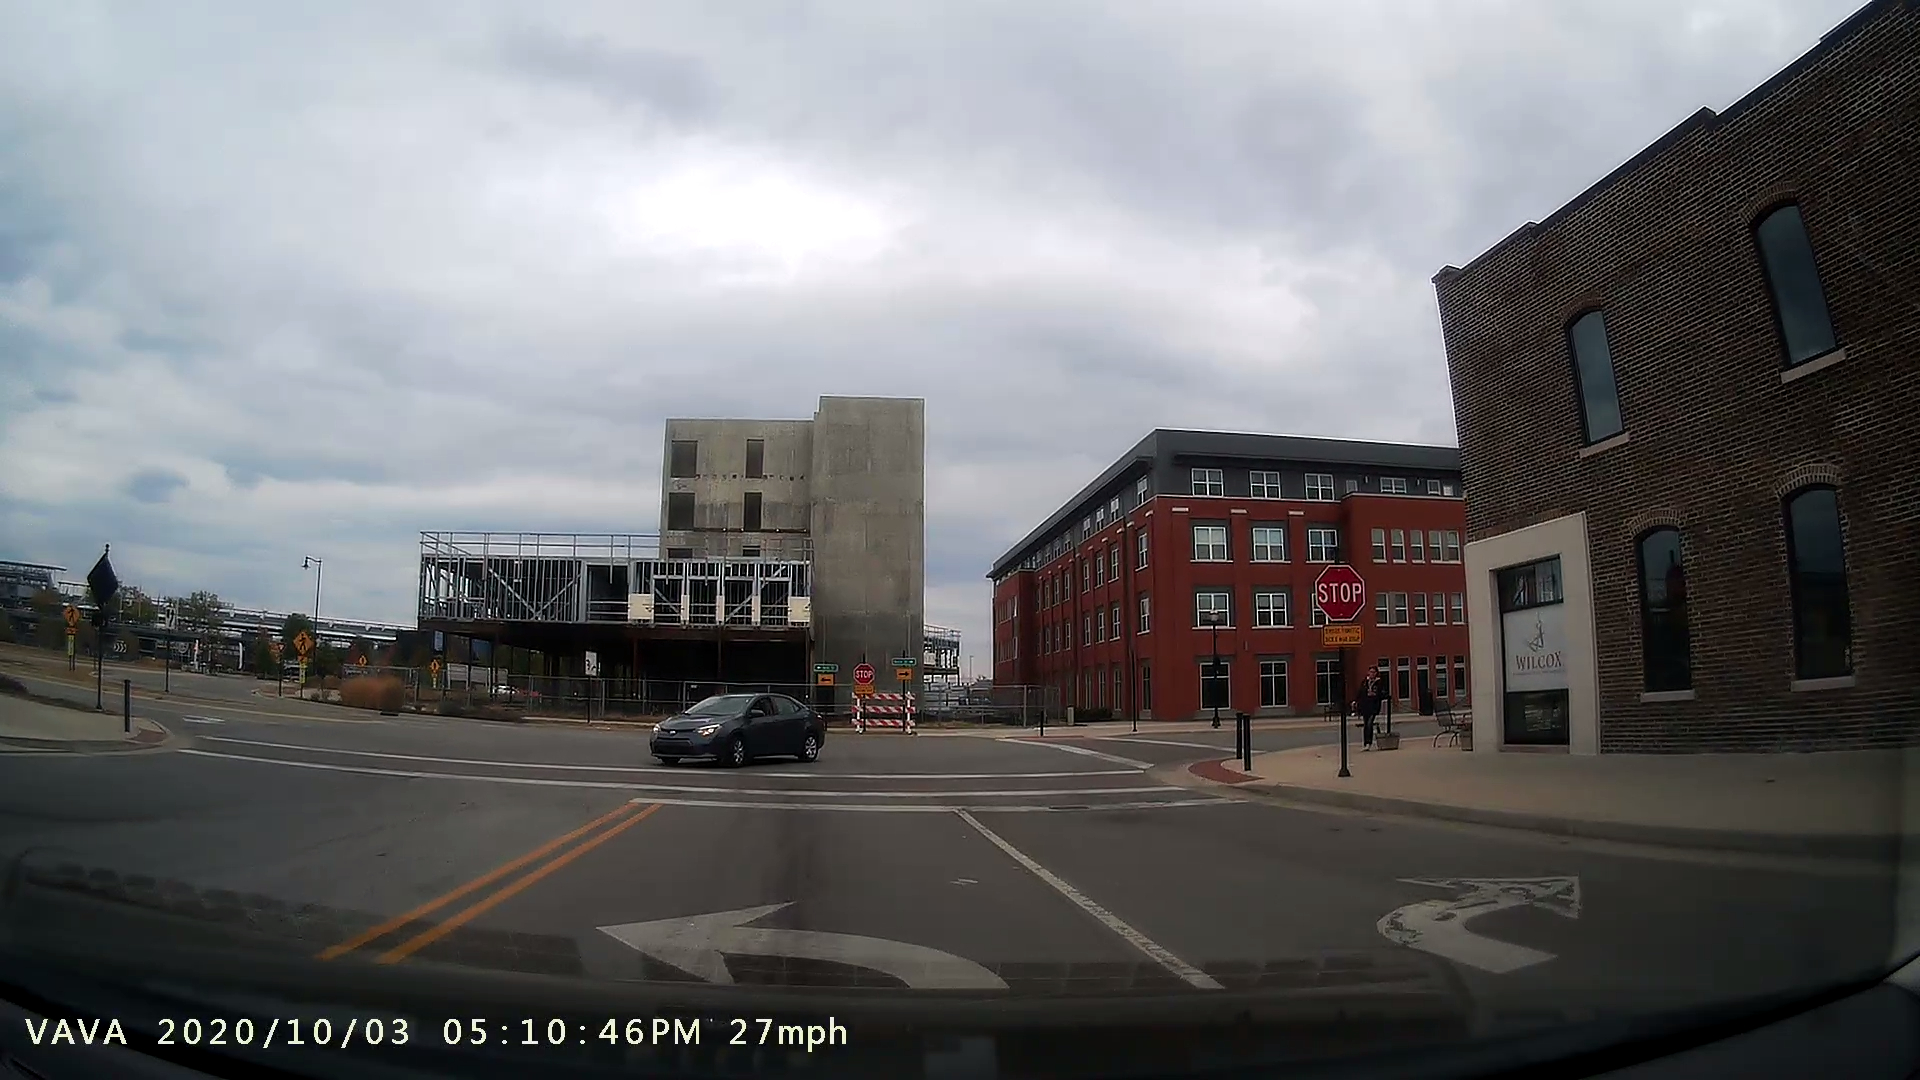right_turn: (1367, 843, 1602, 976)
